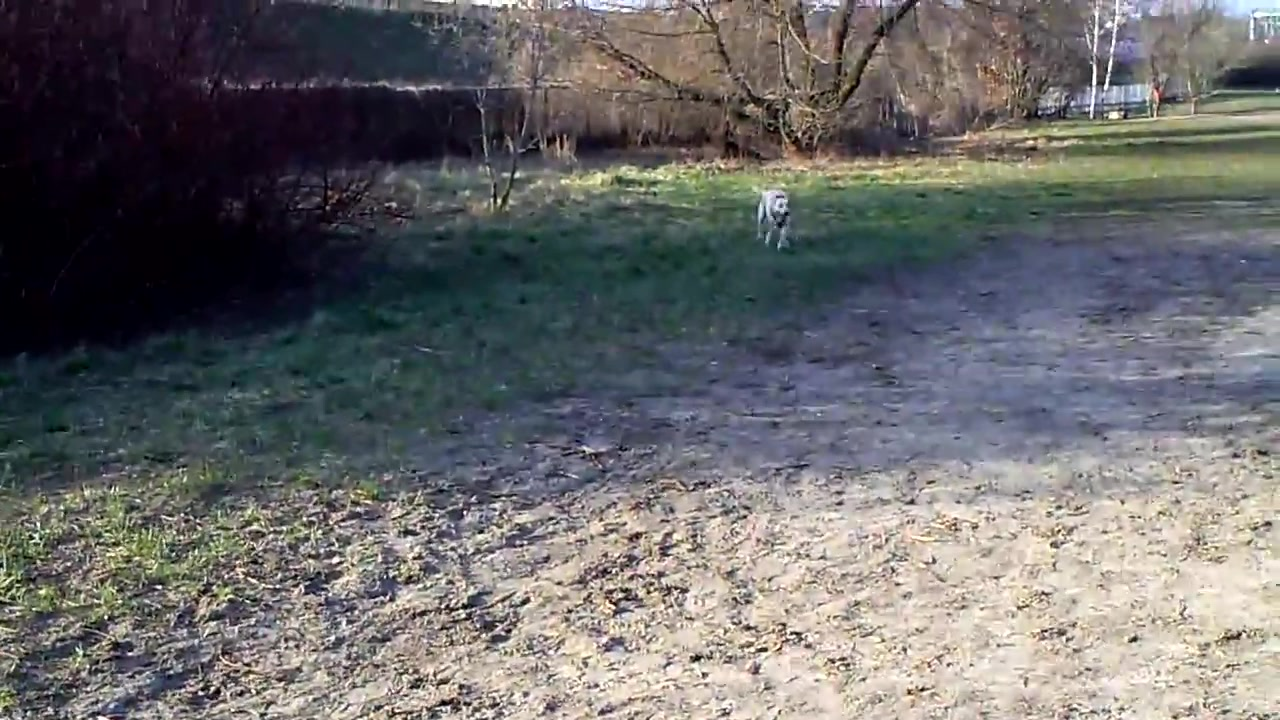dog: (751, 185, 797, 252)
